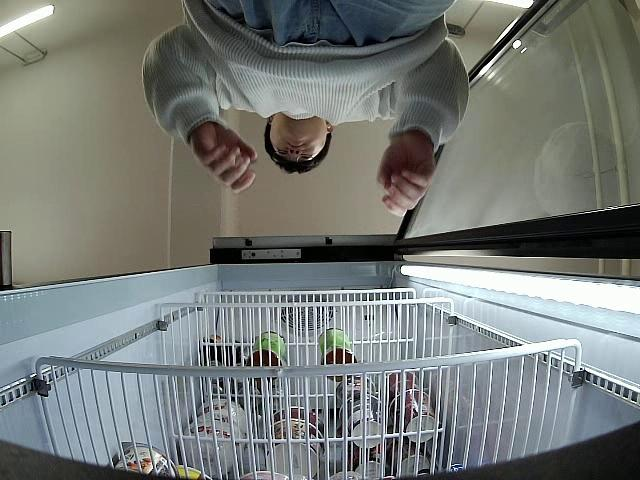00_hand: (191, 122, 260, 196), (376, 144, 437, 216)
